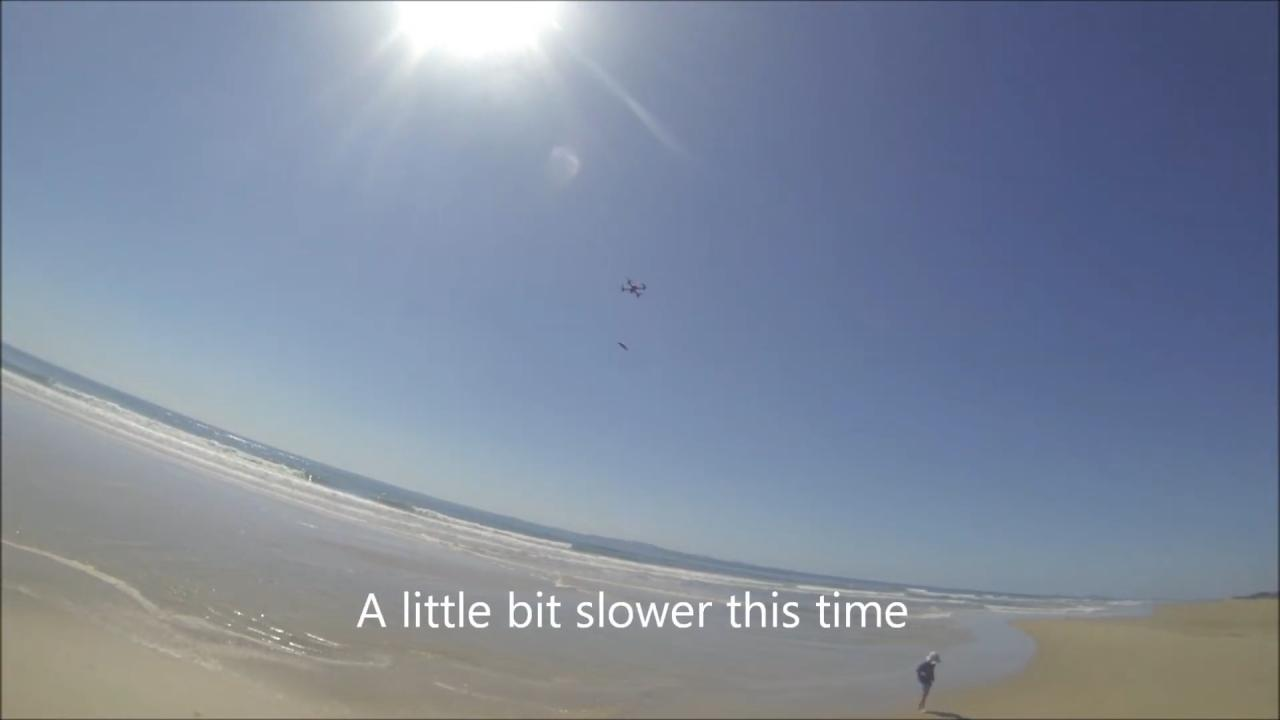Drone: (614, 271, 656, 307)
